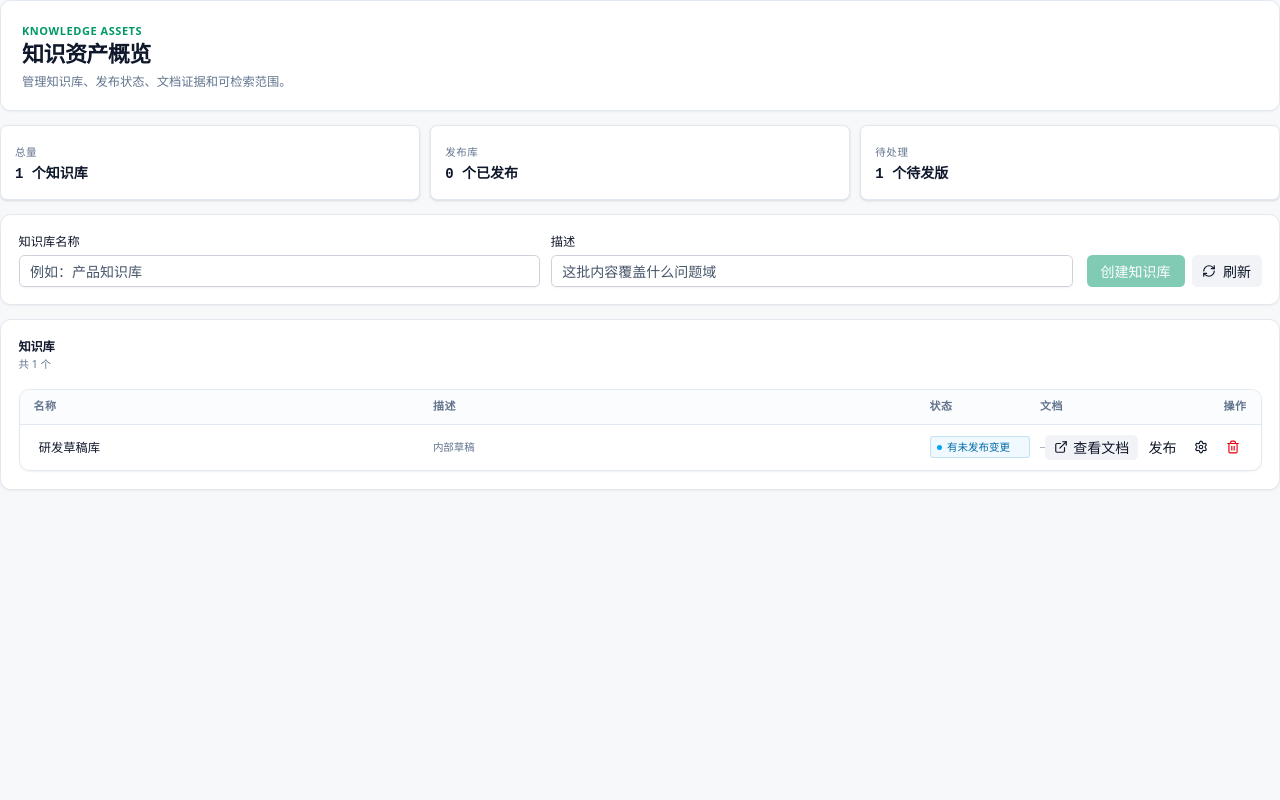
Test: knowledge base pages › deletes a knowledge base through the API and refreshes the list
Expected: the text "研发草稿库" is shown, [39,439,100,456]
Click the button named "删除知识库 研发草稿库": (1232, 447) [1218,433,1246,461]
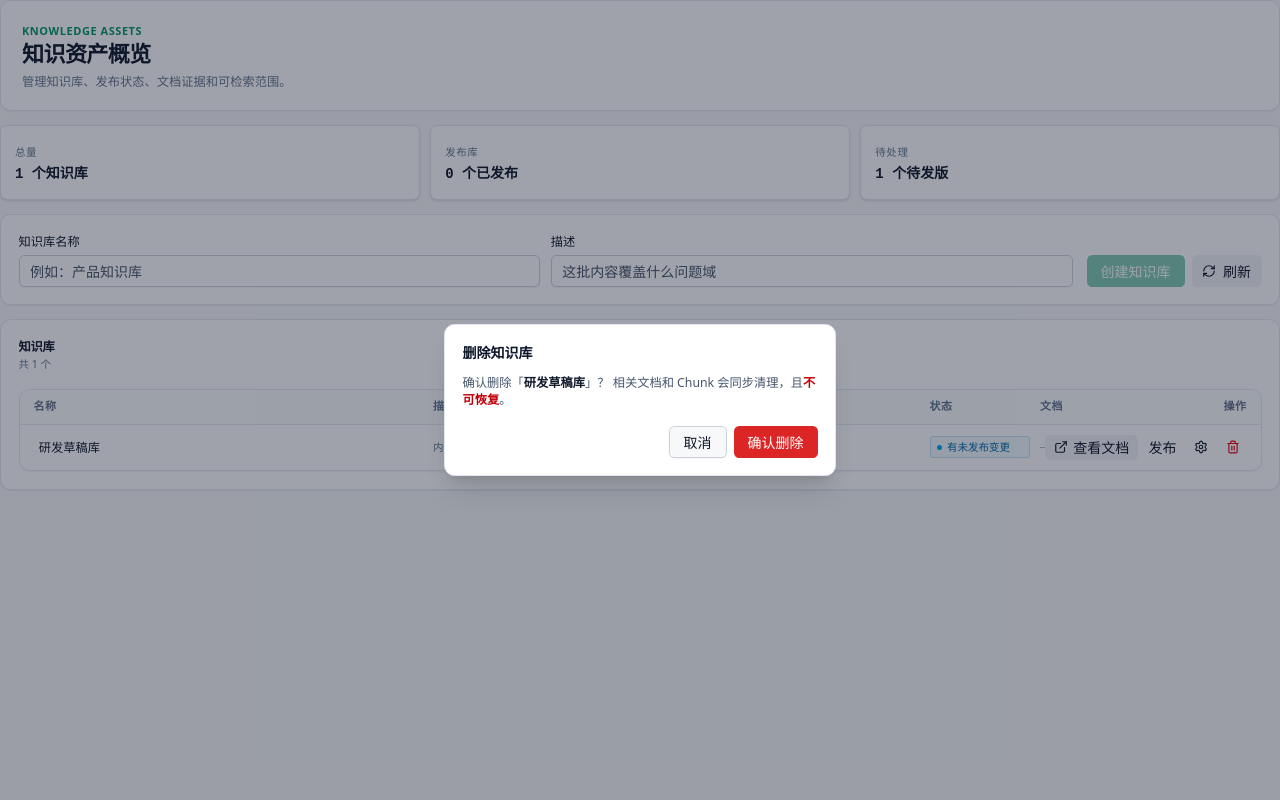
Expected: the dialog "删除知识库" is shown
Click the button with aria-label "确认删除 研发草稿库": (776, 442) [734,426,818,458]
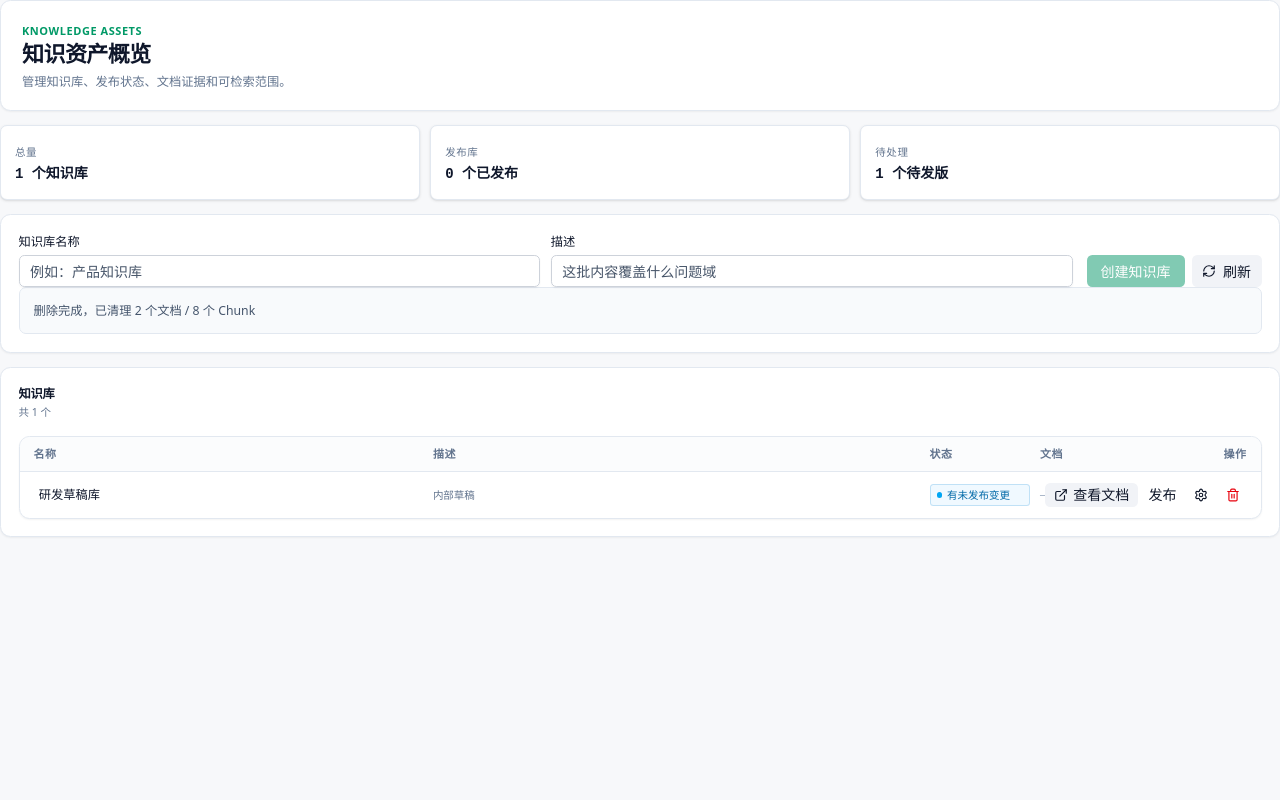
Expected: the text "删除完成，已清理 2 个文档 / 8 个 Chunk" is shown, [18,287,1262,334]
